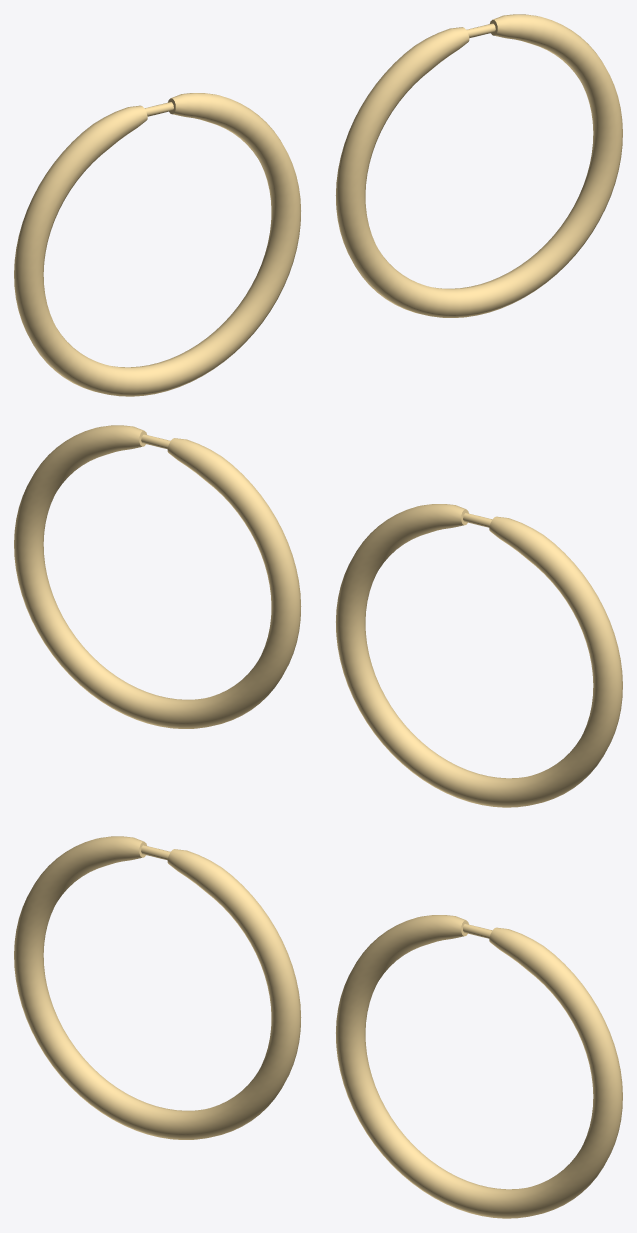
The model's file is EarringsGoldHoops.obj.
3 renders of one model, top to bottom at view 1: azimuth 30°, elevation 25°; view 2: azimuth 150°, elevation 25°; view 3: azimuth 330°, elevation 25°, orthographic.
Parts seen in each view (by area): view 1: Gold18k; view 2: Gold18k; view 3: Gold18k.
Boxes of the visible parts, x1,y1,x2,y2 form: Gold18k: [14, 14, 622, 396]; Gold18k: [14, 425, 622, 807]; Gold18k: [14, 836, 622, 1218].
Bounding box in the file's own units: 0.0564 × 0.0259 × 0.0024.
